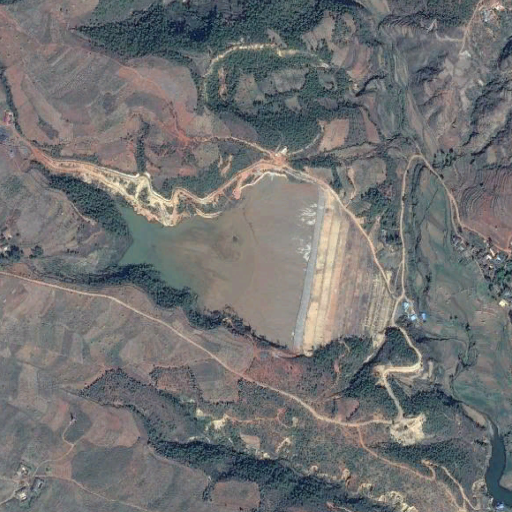tp: (111, 166, 390, 349)
